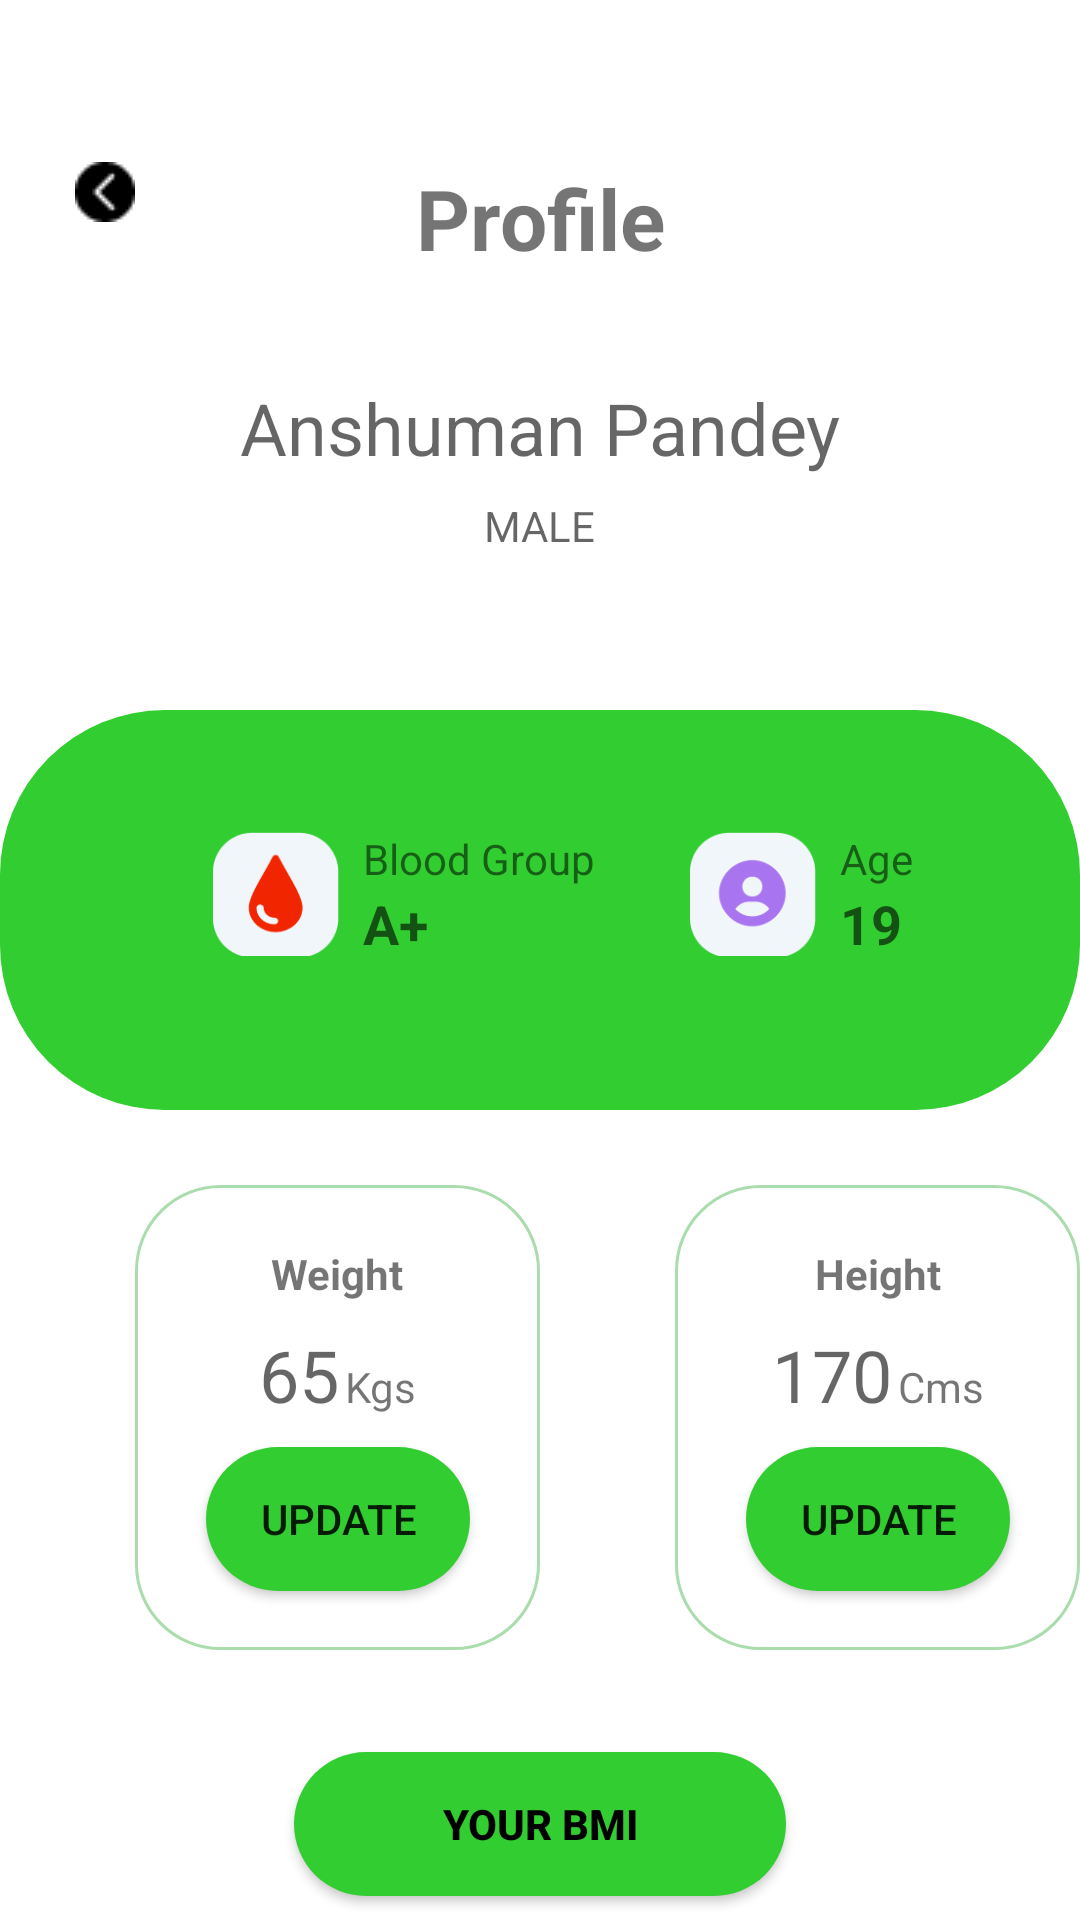

Where to tap for icons on this 1080px x 1920px app screen, as point (x, y):
backarrow: point (105, 192)
